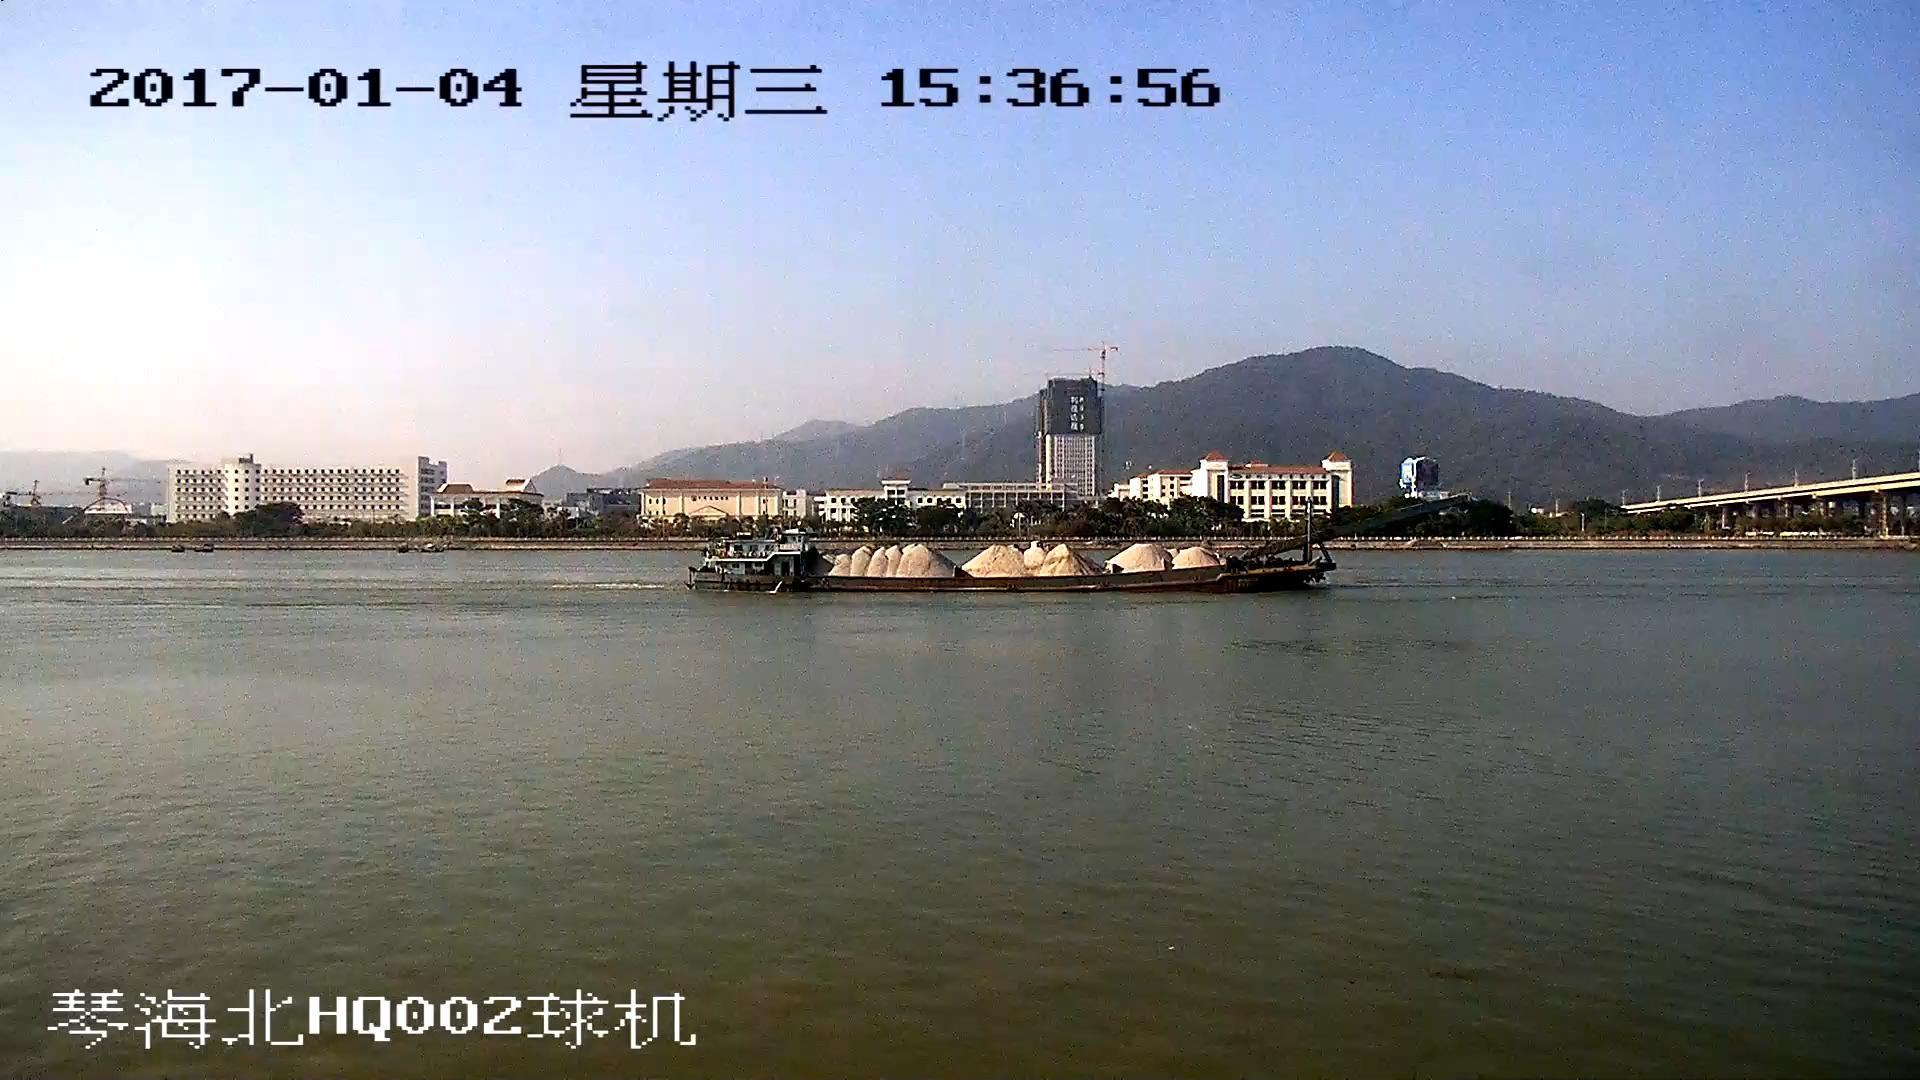Ship: (688, 496, 1473, 593)
